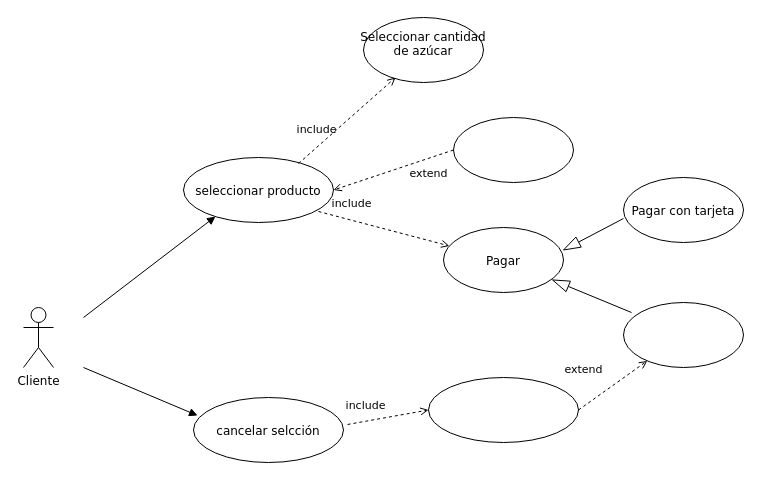
The diagram is 761 pixels wide and 480 high, and some of its shapes have lost their labels. The box of each missing label's shape, as (x1, y1, x2, y2) in pixels:
Dar cambio: (428, 376, 578, 442)
Elegir tipoazucar: (452, 116, 574, 182)
Pagar en efectivo: (622, 302, 744, 368)
